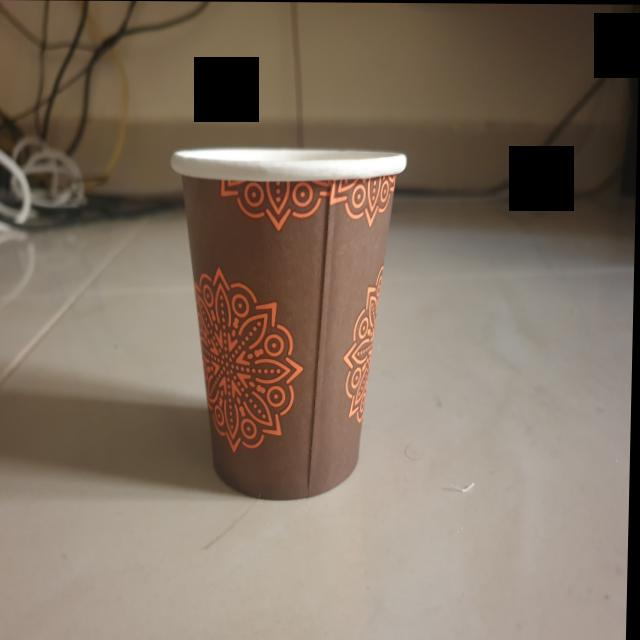cups: (164, 136, 417, 515)
